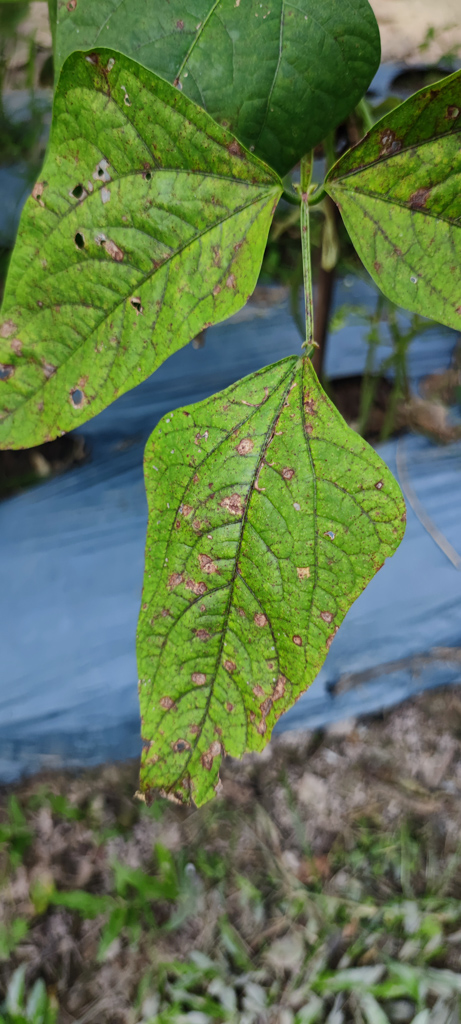Rust: (132, 358, 402, 826), (9, 54, 286, 459), (336, 65, 455, 358)
